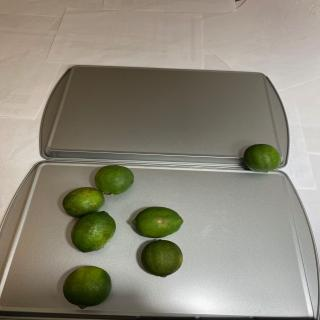Lemon: (62, 266, 112, 309), (71, 210, 116, 252), (141, 239, 183, 278), (132, 206, 183, 238), (62, 186, 105, 218), (94, 165, 134, 195), (243, 144, 282, 172)
